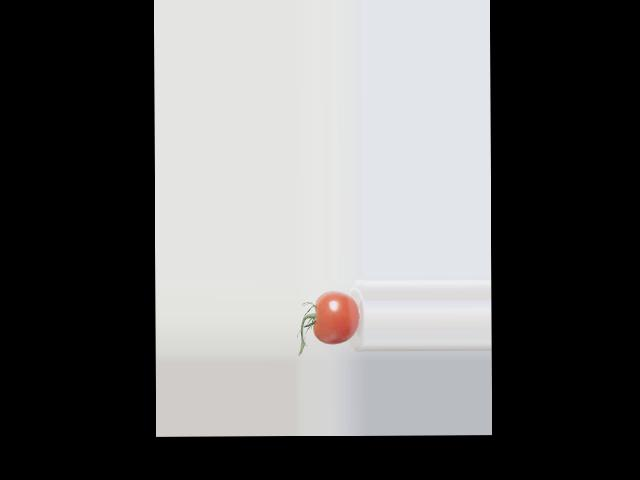tomato: (313, 291, 359, 345)
